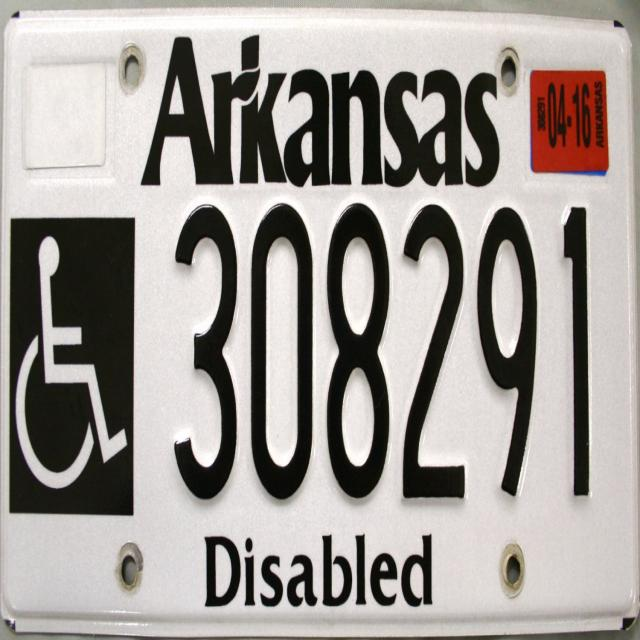car-handicap-placard: (11, 222, 131, 498)
